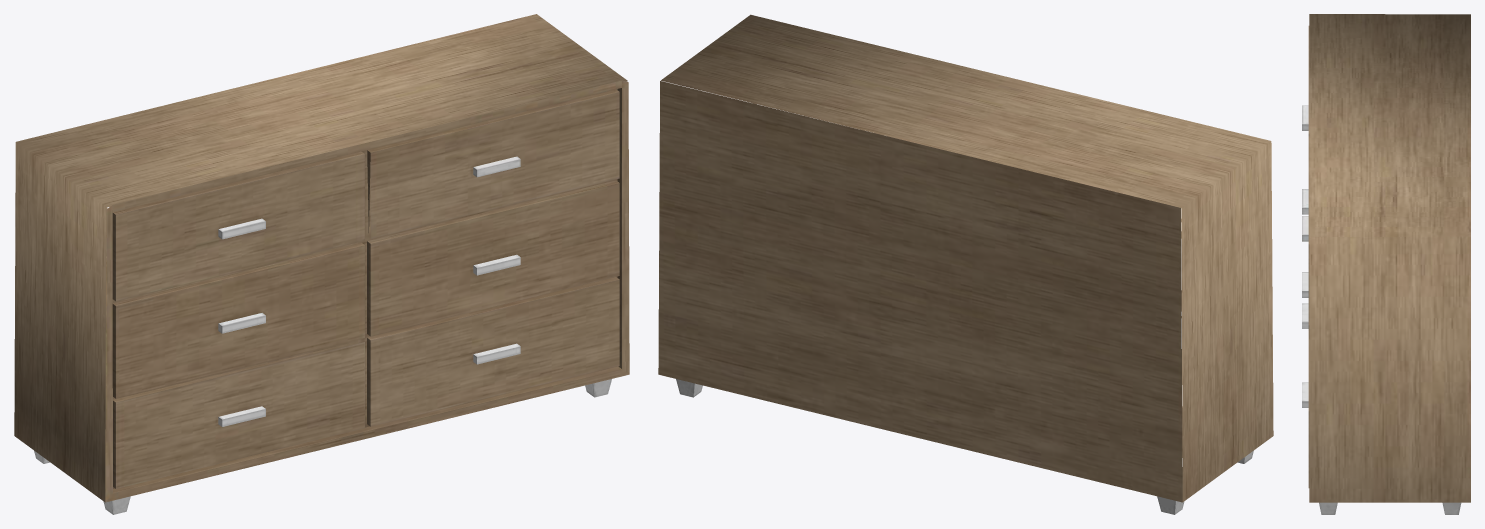
3 renders of one model, left to right at view 1: azimuth 30°, elevation 25°; view 2: azimuth 150°, elevation 25°; view 3: azimuth 270°, elevation 25°, orthographic. The views are drawn at different scales.
Parts seen in each view (by area): view 1: Dresser; view 2: Dresser; view 3: Dresser.
Part boxes in pixels (x1=…): Dresser: x1=14, y1=14, x2=629, y2=514; Dresser: x1=658, y1=14, x2=1273, y2=514; Dresser: x1=1302, y1=14, x2=1470, y2=514.
Bounding box in the file's own units: 218 × 126 × 68.34.
Materials: 1 (1 with a texture image).
